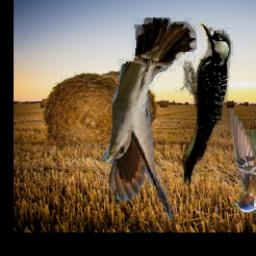Cuckoo: (103, 19, 198, 221)
Swallow: (228, 109, 256, 213)
Woodpecker: (173, 19, 238, 197)
